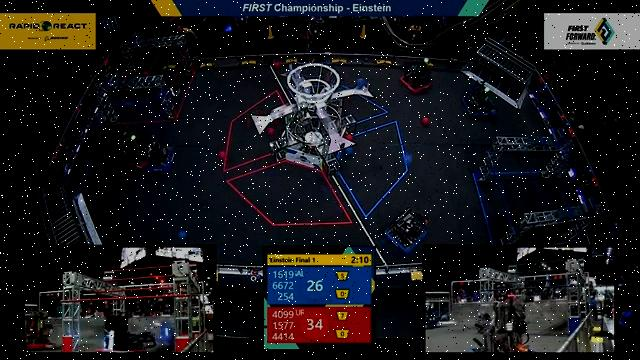Robot: (379, 204, 435, 255), (451, 77, 501, 121), (394, 57, 437, 99), (117, 124, 151, 173), (145, 137, 181, 172)
